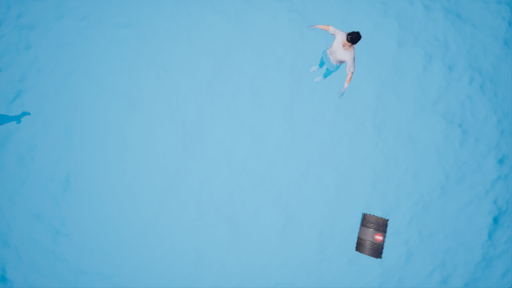person: (299, 21, 363, 101)
